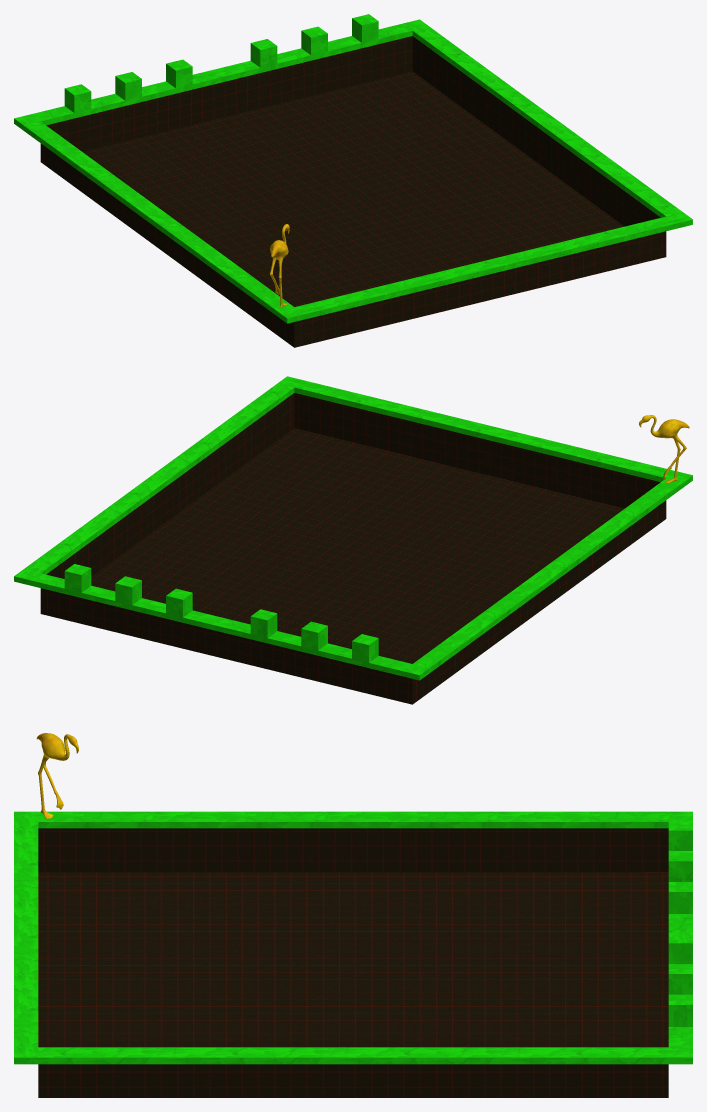
The model's file is pool.gltf.
3 renders of one model, top to bottom at view 1: azimuth 30°, elevation 25°; view 2: azimuth 150°, elevation 25°; view 3: azimuth 270°, elevation 25°, orthographic. The views are drawn at different scales.
Visible parts, largest first — view 1: inside, rim, flamingo; view 2: inside, rim, flamingo; view 3: inside, rim, flamingo.
Part boxes in pixels (x1,y1,x2,y2): inside: [40, 36, 666, 347]; rim: [14, 14, 692, 323]; flamingo: [269, 224, 289, 307]; inside: [40, 393, 666, 704]; rim: [14, 376, 692, 680]; flamingo: [639, 415, 689, 483]; inside: [38, 828, 668, 1097]; rim: [14, 811, 692, 1064]; flamingo: [36, 733, 78, 818].
Size of what is drawn, in the model's own units: 24.37 by 6.33 by 28.
1 material, 1 textured.
